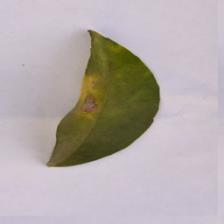black spot: (53, 75, 108, 141)
